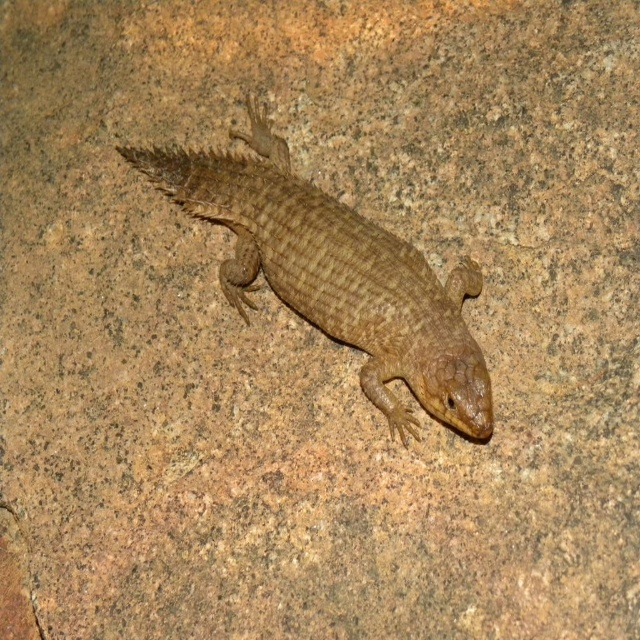Lizard: (132, 76, 523, 485)
